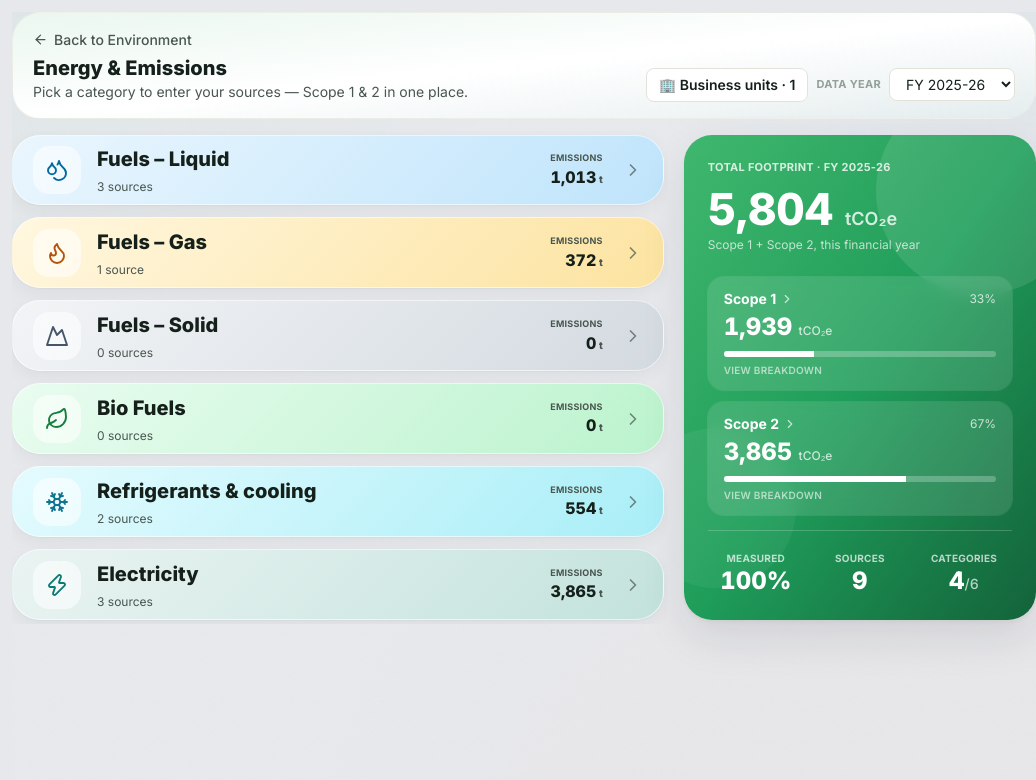
Test: ActivityDataTab — Task 2: BU mode removal › Business Units screen has no central/by-BU mode and lists units
Click the button "🏢 Business units · 1".
click(727, 84)  # box [646,68,808,102]
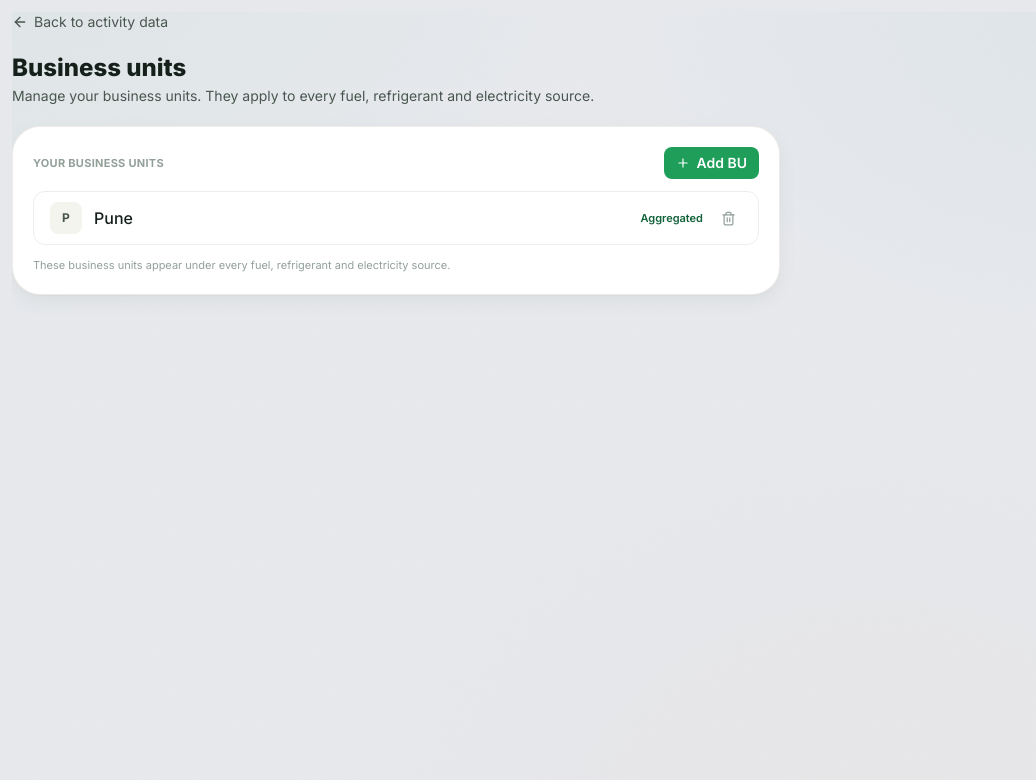
Check: the text "Pune" is shown, box [94,208,133,228]
